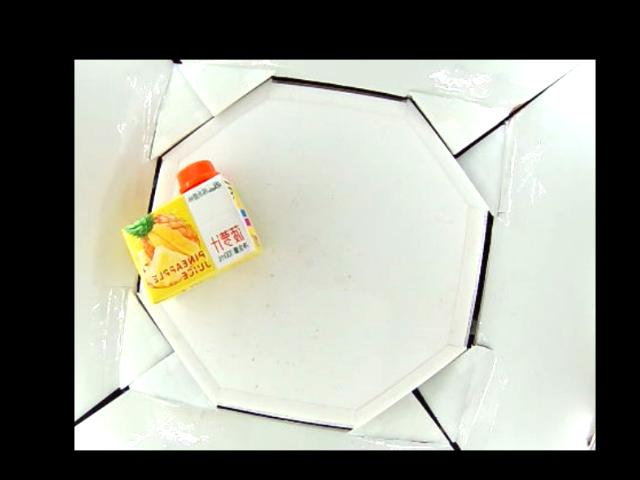Bottle: (119, 160, 259, 305)
